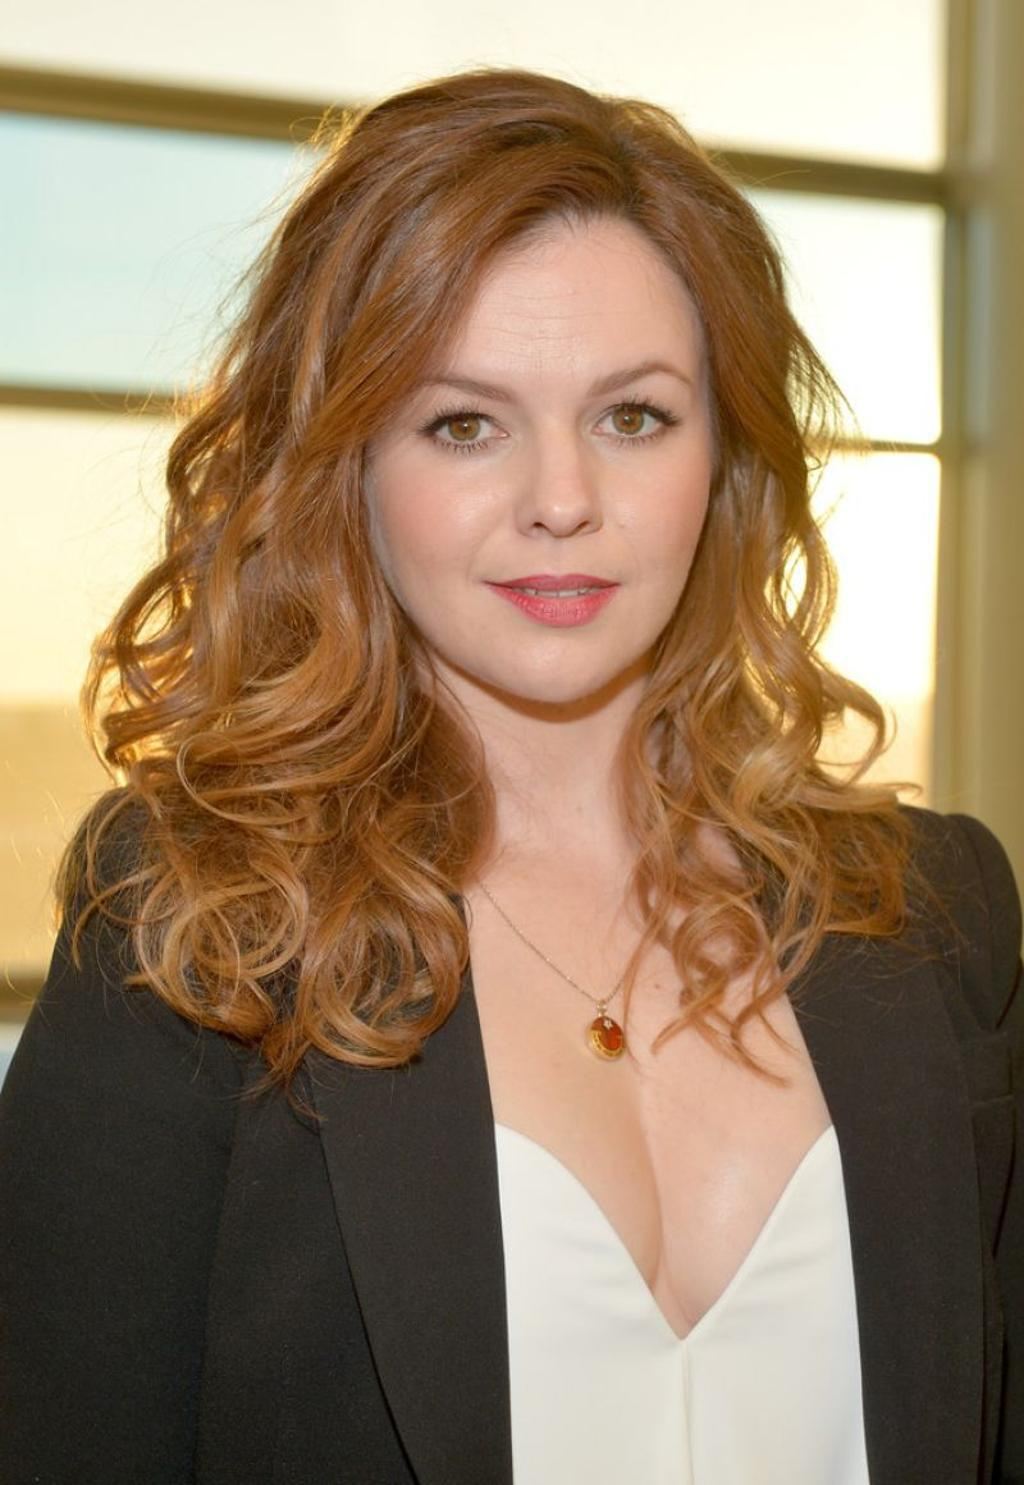face: (352, 213, 709, 697)
